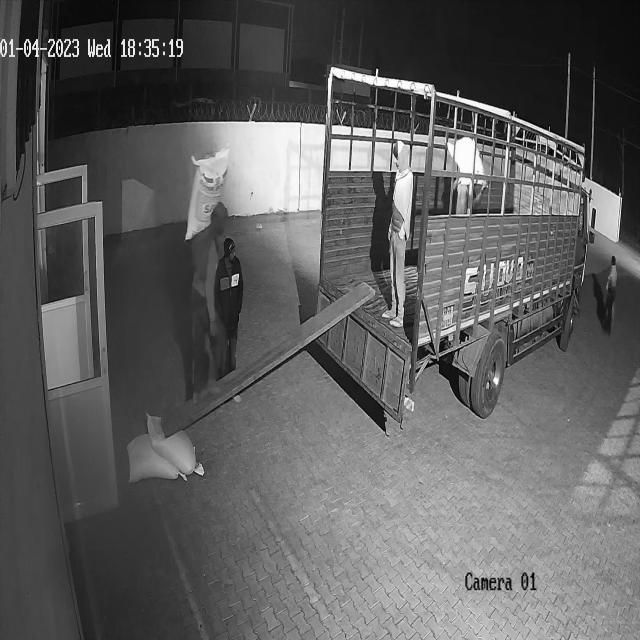sack: (185, 145, 230, 239), (144, 411, 204, 476), (126, 434, 187, 483), (446, 136, 488, 187)
